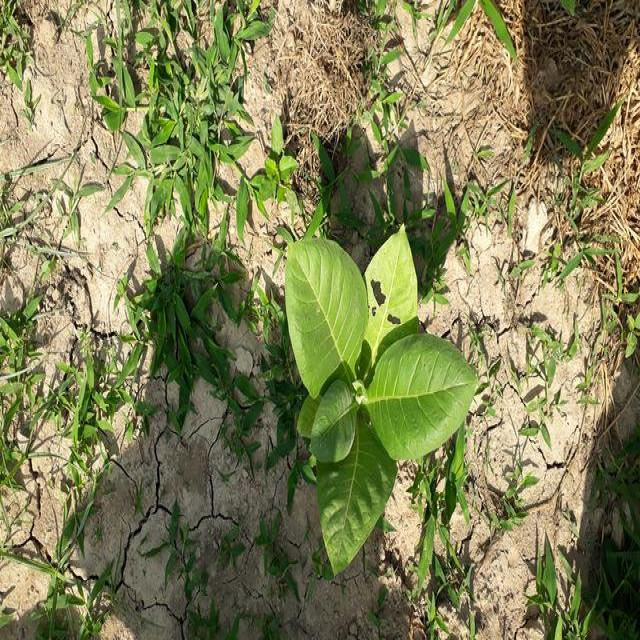crop: (280, 226, 476, 582)
